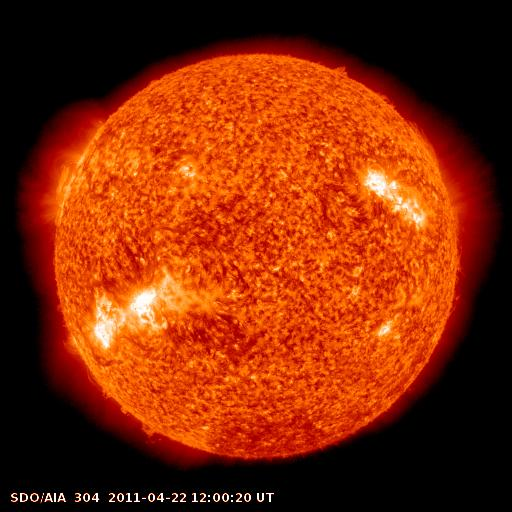prominence: (115, 401, 172, 452), (79, 362, 115, 401), (324, 56, 359, 85)
